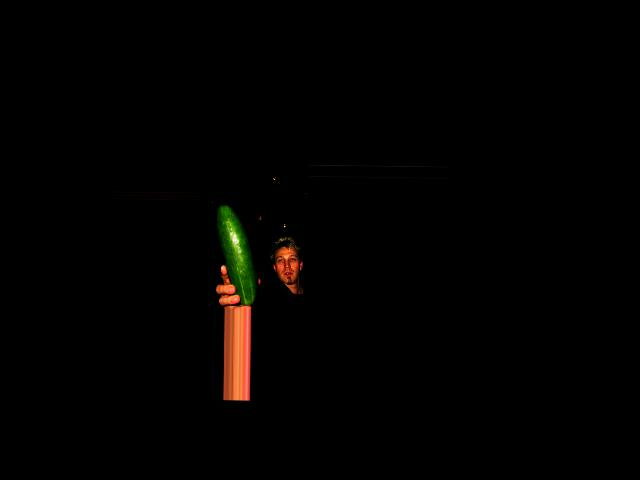cucumber: (214, 205, 257, 304)
